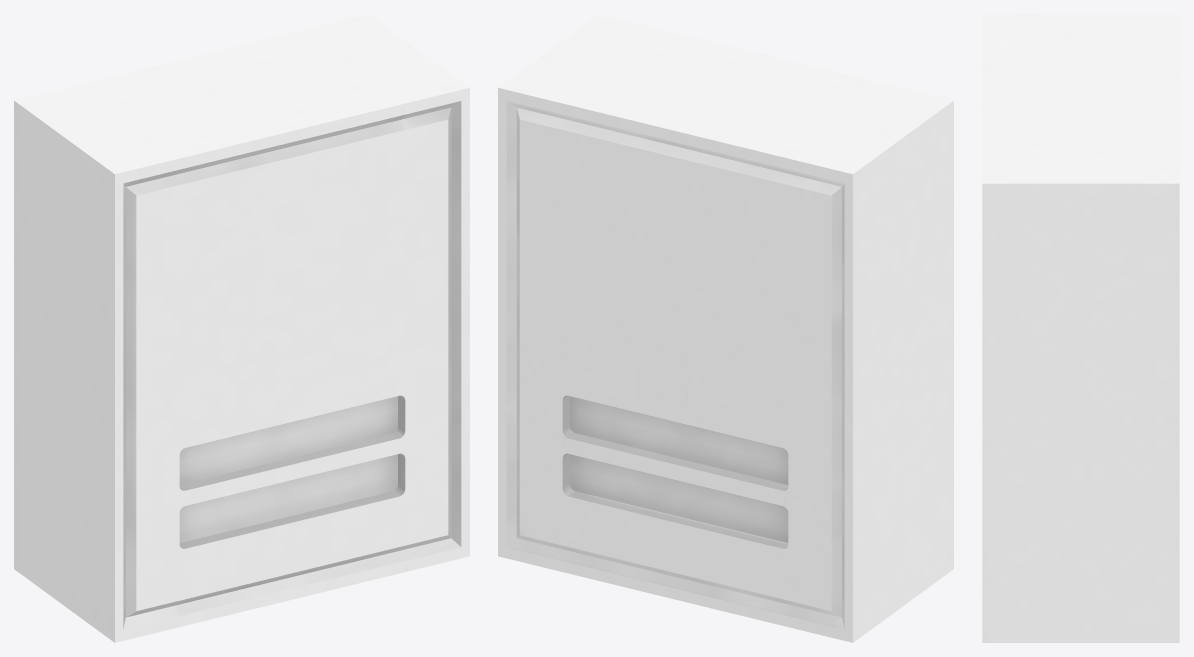
Rendered from ElectricalPanel.glb.
3 views of the same model, side by side, from view 1: azimuth 30°, elevation 25°; view 2: azimuth 150°, elevation 25°; view 3: azimuth 270°, elevation 25° (orthographic). The views are drawn at different scales.
Parts seen in each view (by area): view 1: ElectricalPanel; view 2: ElectricalPanel; view 3: ElectricalPanel.
Boxes of the visible parts, x1,y1,x2,y2 form: ElectricalPanel: (14,14,469,642); ElectricalPanel: (498,14,953,642); ElectricalPanel: (982,14,1179,642).
Size of the model in its own units: 0.212 by 0.2675 by 0.1043.
1 material, 1 textured.
